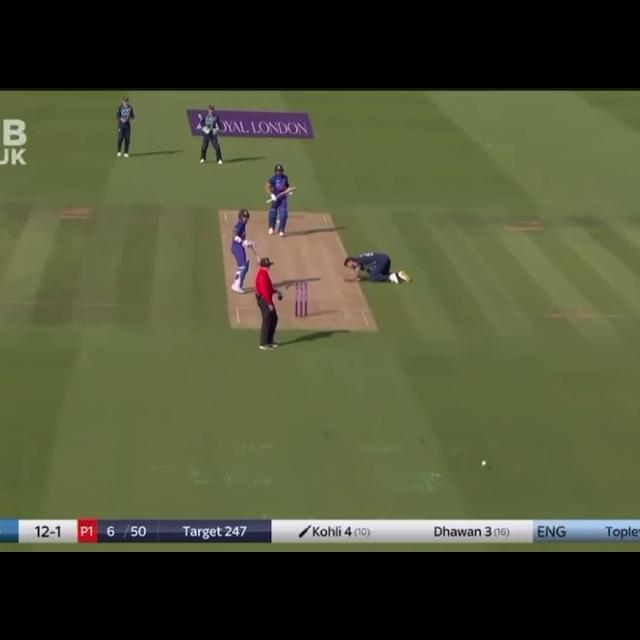umpire: (248, 252, 284, 347)
